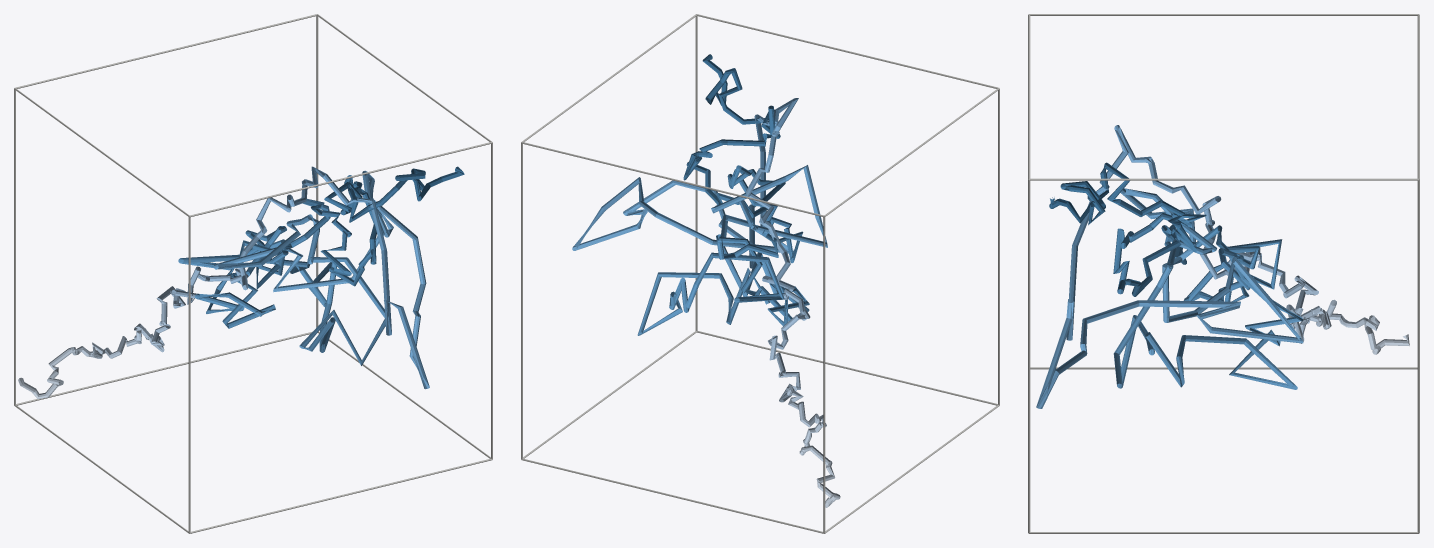
The picture shows the model from 3 angles, left to right: view 1: azimuth 30°, elevation 25°; view 2: azimuth 150°, elevation 25°; view 3: azimuth 270°, elevation 25°; orthographic projection. The views are drawn at different scales.
Visible parts, largest first — view 1: geometry_0, geometry_1; view 2: geometry_0, geometry_1; view 3: geometry_0, geometry_1.
Part boxes in pixels (bbox=[...]): geometry_0: bbox=[18, 166, 464, 398]; geometry_1: bbox=[14, 14, 492, 533]; geometry_0: bbox=[572, 54, 840, 507]; geometry_1: bbox=[521, 14, 999, 533]; geometry_0: bbox=[1036, 125, 1409, 408]; geometry_1: bbox=[1028, 14, 1419, 533].
Bounding box in the file's own units: 0.3047 × 0.3014 × 0.3016.
